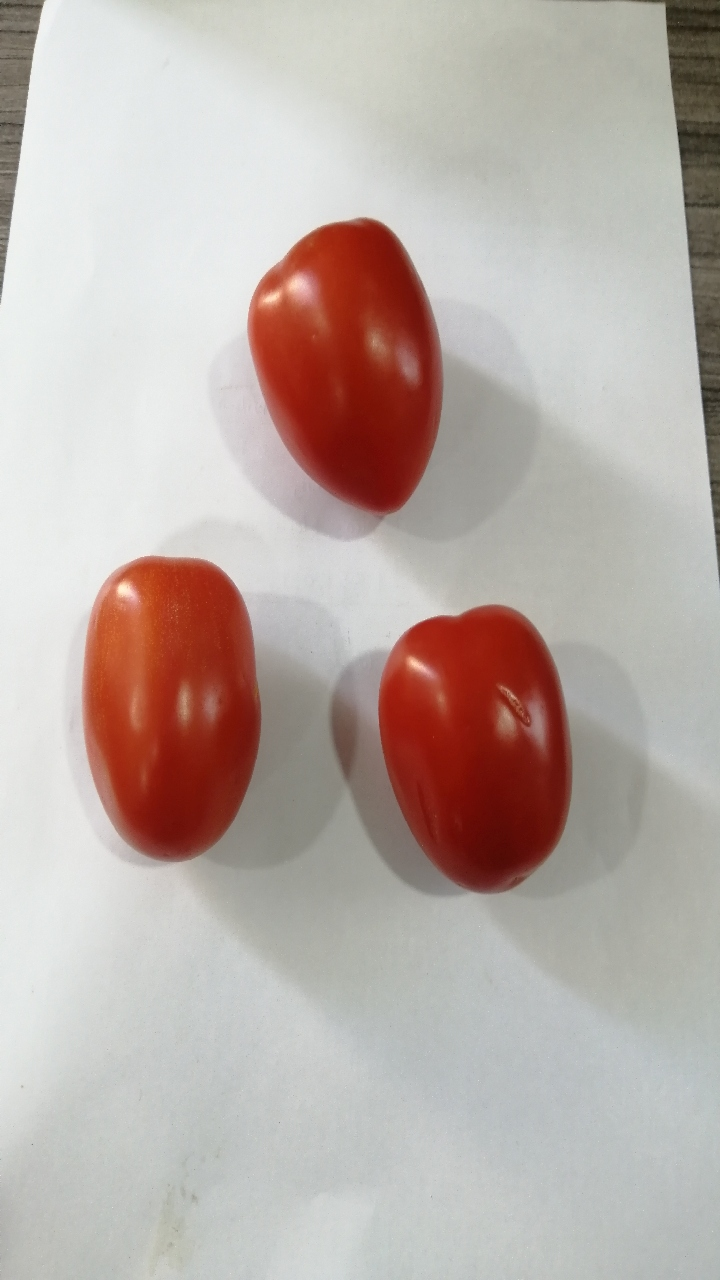tomateRojo: (58, 543, 278, 885), (238, 211, 455, 534), (358, 600, 574, 905)
